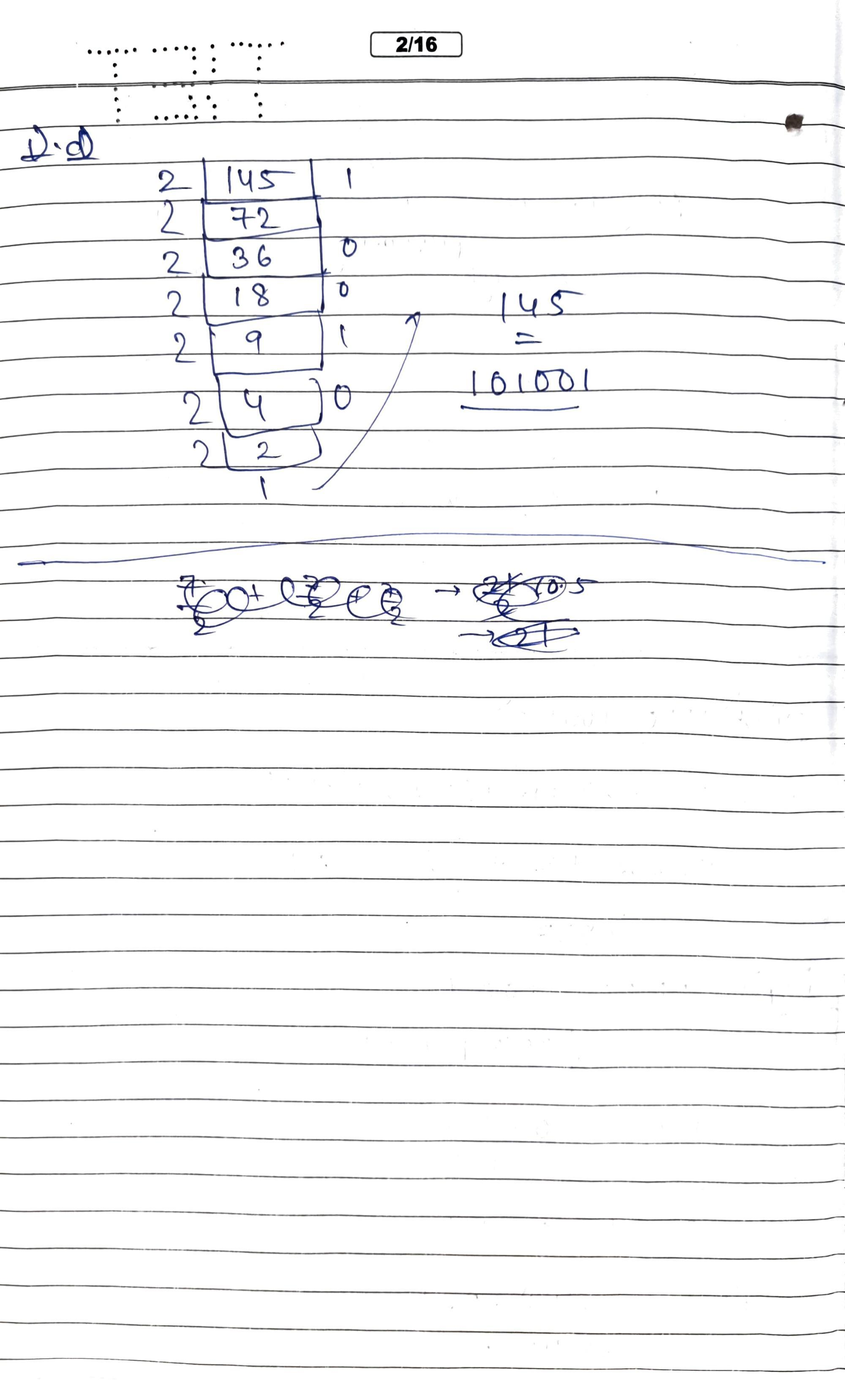cuttings: (173, 573, 419, 636), (458, 571, 600, 656)
